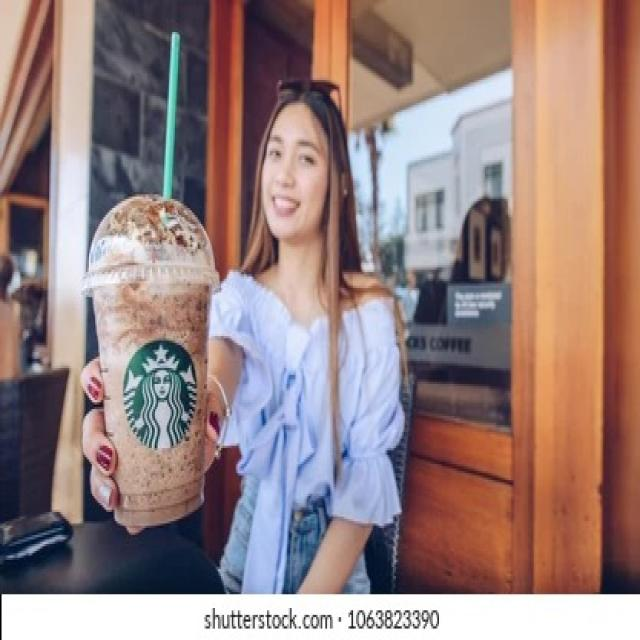starbucks: (120, 336, 206, 453)
